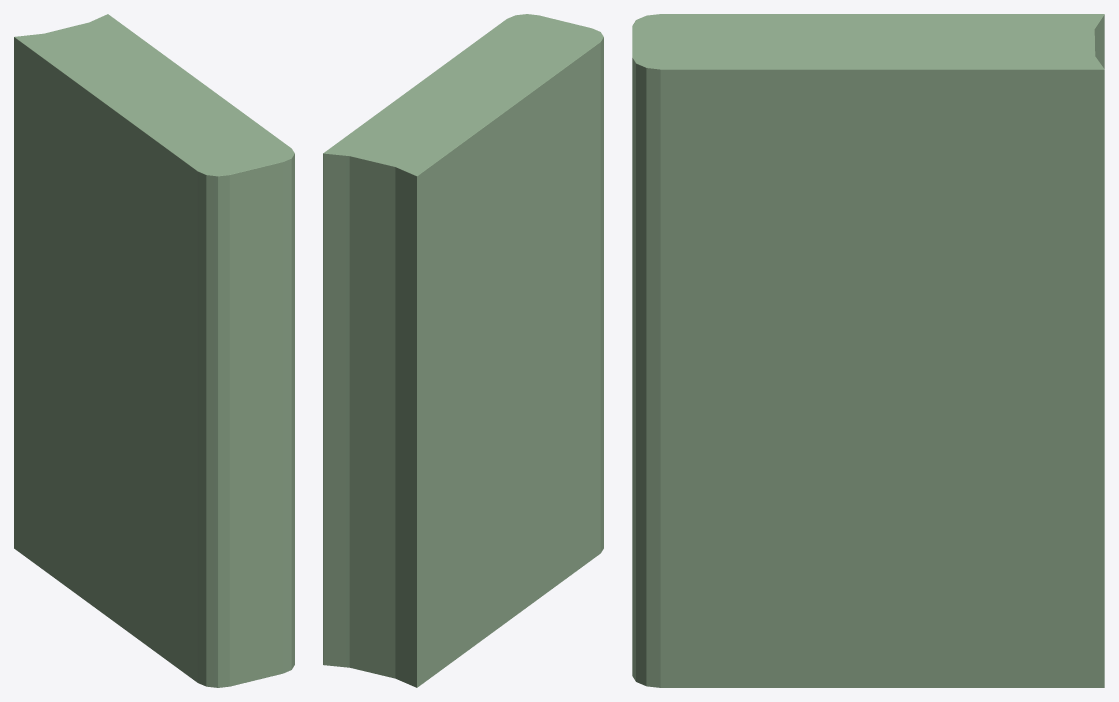
File: book.fbx
The picture shows the model from 3 angles, left to right: view 1: azimuth 30°, elevation 25°; view 2: azimuth 150°, elevation 25°; view 3: azimuth 270°, elevation 25°; orthographic projection. The views are drawn at different scales.
Parts seen in each view (by area): view 1: pCube144; view 2: pCube144; view 3: pCube144.
Boxes of the visible parts, box(x1,y1,x2,y2) form: pCube144: box(14, 14, 294, 687); pCube144: box(323, 14, 603, 687); pCube144: box(632, 14, 1104, 687).
Bounding box in the file's own units: 0.05 × 0.26 × 0.18.
